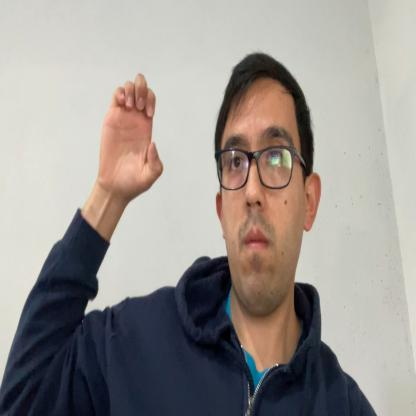E: (98, 71, 164, 198)
